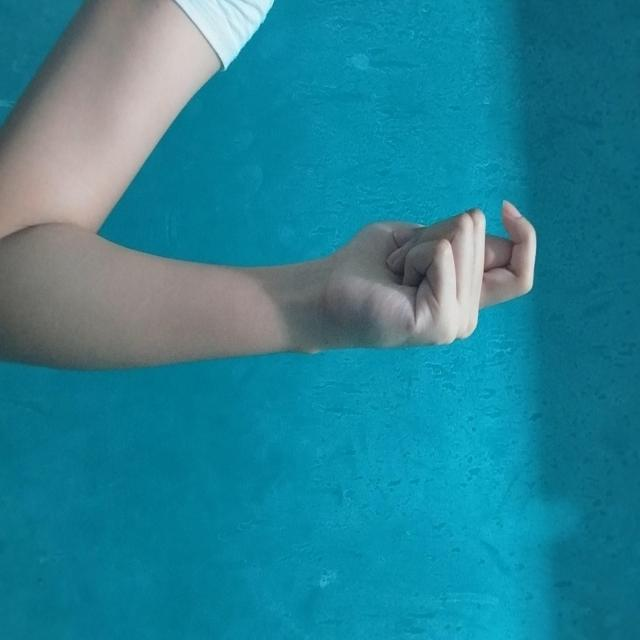T: (198, 102, 353, 317)
